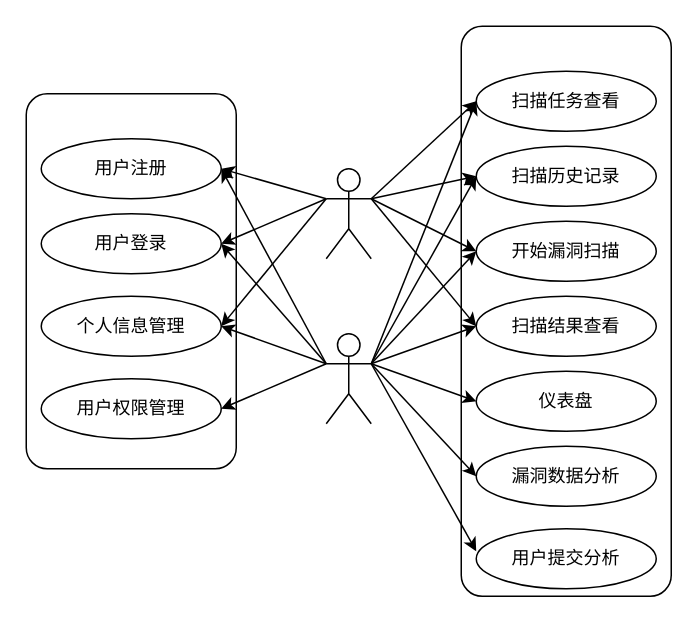
This 698x623 diagram has some shape labels left out. The box of each missing label's shape, as (x1, y1, x2, y2) in pixels:
普通用户: (325, 167, 371, 259)
用户信息: (25, 92, 236, 469)
管理员: (325, 332, 371, 424)
系统信息: (460, 25, 671, 596)
